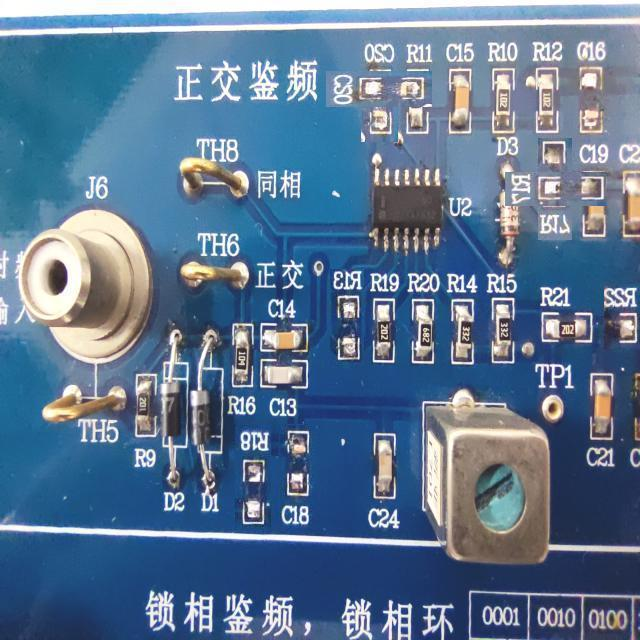miss_welding: (344, 53, 415, 125), (521, 156, 589, 223), (234, 426, 271, 527), (279, 424, 314, 527), (574, 36, 608, 138), (330, 270, 364, 368), (604, 283, 640, 350)
